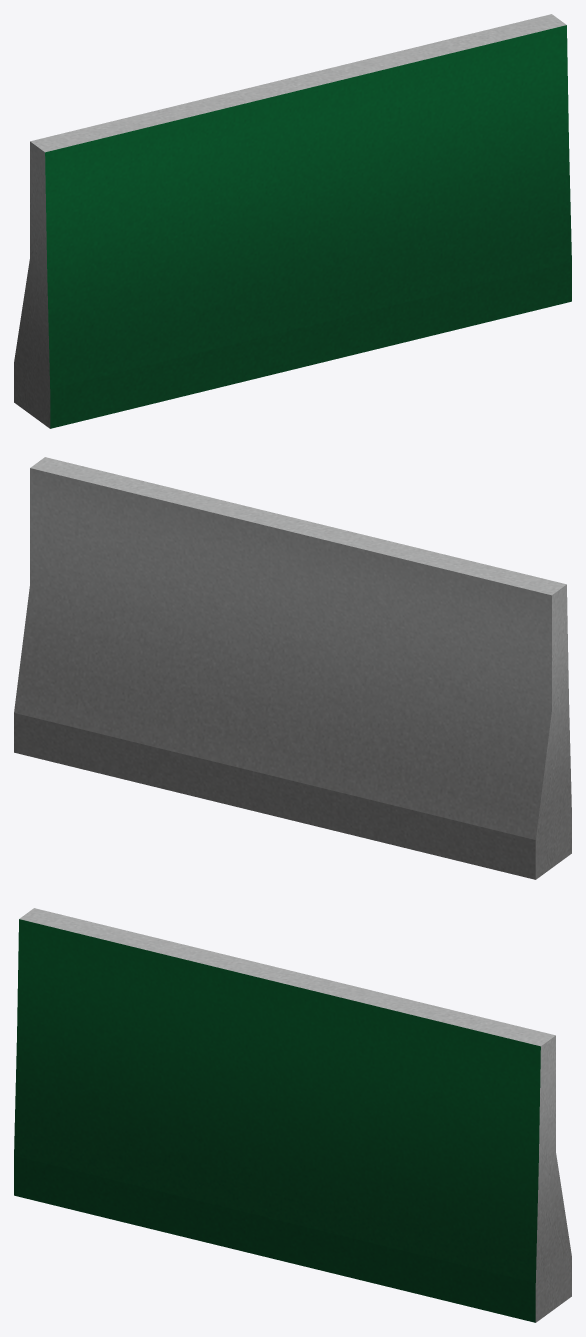
Rendered from prop_wall_spa_e.FBX.
The picture shows the model from 3 angles, top to bottom: view 1: azimuth 30°, elevation 25°; view 2: azimuth 150°, elevation 25°; view 3: azimuth 330°, elevation 25°; orthographic projection.
Visible parts, largest first — view 1: wall_spa_e; view 2: wall_spa_e; view 3: wall_spa_e.
Boxes of the visible parts, left/top/right/bottom form: wall_spa_e: left=14, top=14, right=571, bottom=428; wall_spa_e: left=14, top=457, right=571, bottom=879; wall_spa_e: left=14, top=908, right=571, bottom=1322.
Size of the model in its own units: 157 by 78.68 by 18.9.
